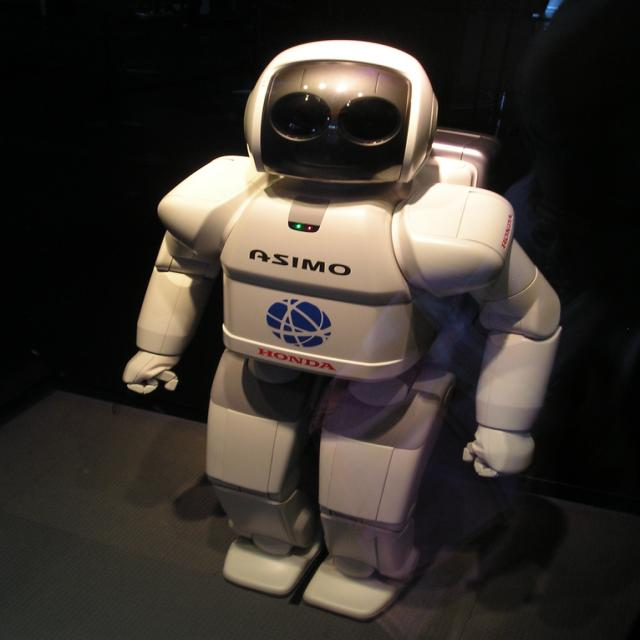Toy: (105, 32, 565, 624)
